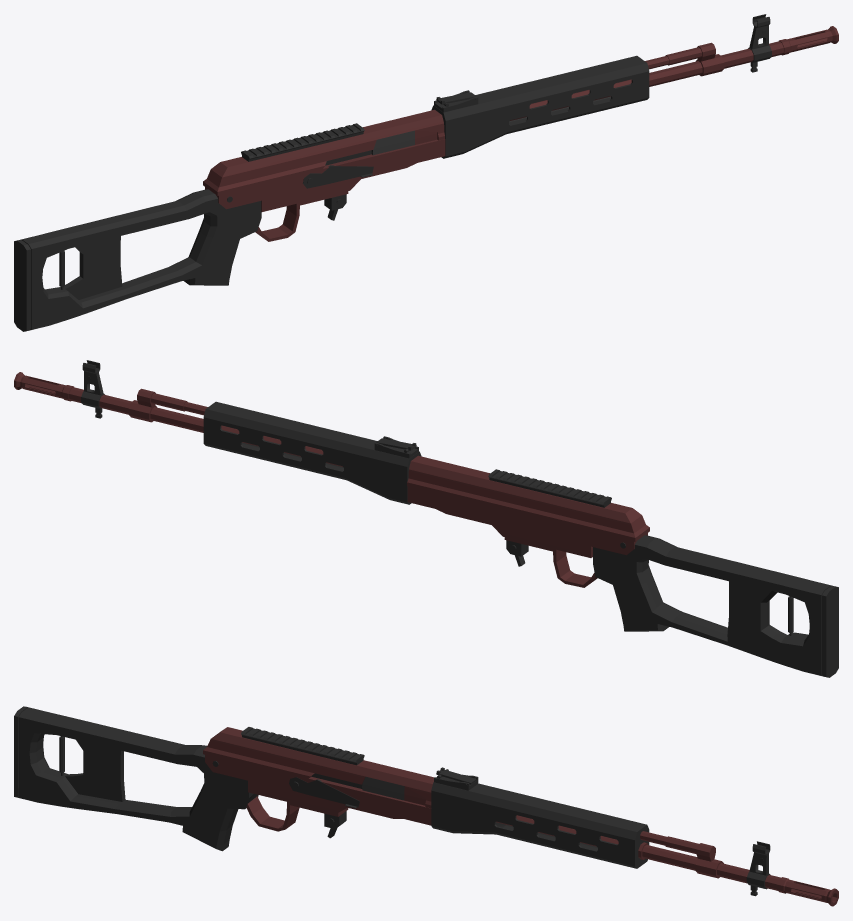
Rendered from SniperRifle2_04.fbx.
3 renders of one model, top to bottom at view 1: azimuth 30°, elevation 25°; view 2: azimuth 150°, elevation 25°; view 3: azimuth 330°, elevation 25°, orthographic.
Visible parts, largest first — view 1: SniperRifle2_04; view 2: SniperRifle2_04; view 3: SniperRifle2_04.
Boxes of the visible parts, x1,y1,x2,y2 form: SniperRifle2_04: (14, 14, 838, 331); SniperRifle2_04: (14, 360, 838, 677); SniperRifle2_04: (14, 706, 838, 906).
Bounding box in the file's own units: 1.31 × 0.2075 × 0.0444.
